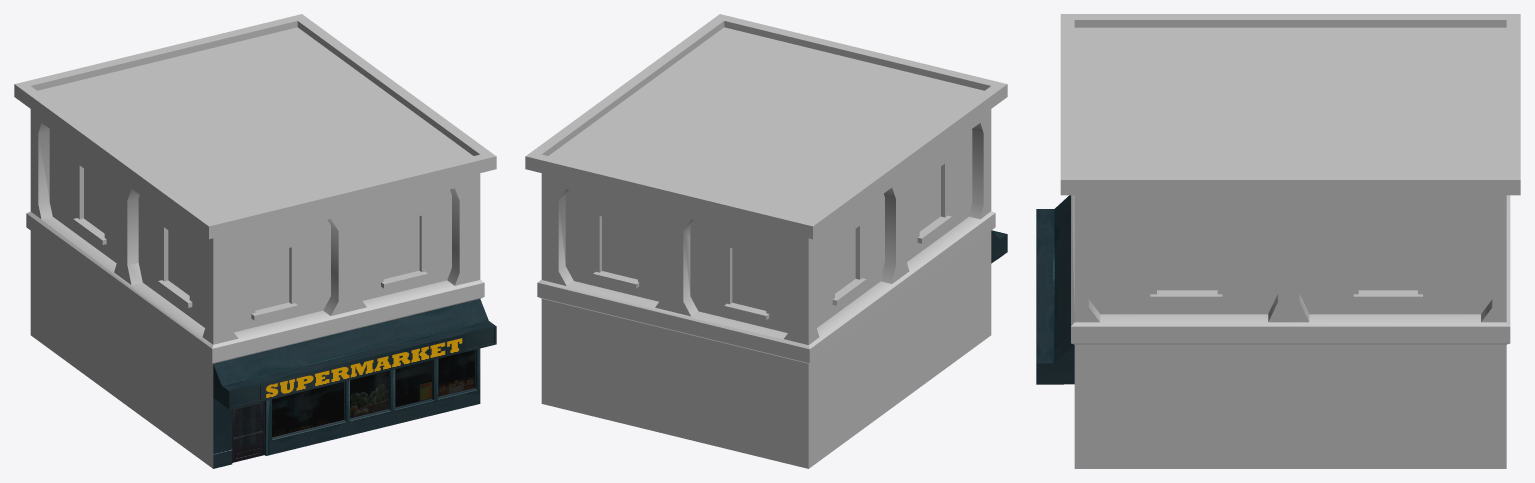
3 renders of one model, left to right at view 1: azimuth 30°, elevation 25°; view 2: azimuth 150°, elevation 25°; view 3: azimuth 270°, elevation 25°, orthographic. The views are drawn at different scales.
Visible parts, largest first — view 1: B10 (2); view 2: B10 (2); view 3: B10 (2).
Part boxes in pixels (box(x1,y1,x2,y2)): B10 (2): box(14, 14, 496, 468); B10 (2): box(525, 14, 1007, 468); B10 (2): box(1036, 14, 1520, 468).
Bounding box in the file's own units: 1400 × 1160 × 1727.
